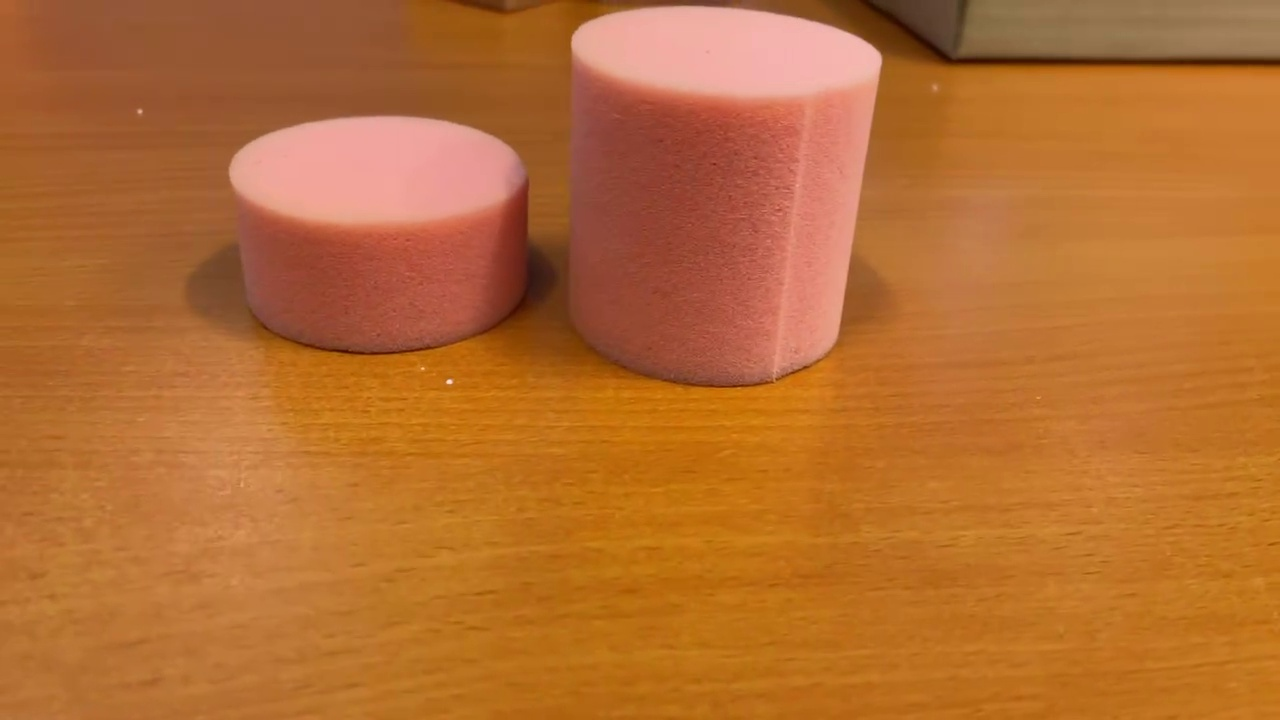Clyinder_short: (224, 108, 539, 360)
Cylinder: (561, 4, 890, 398)
